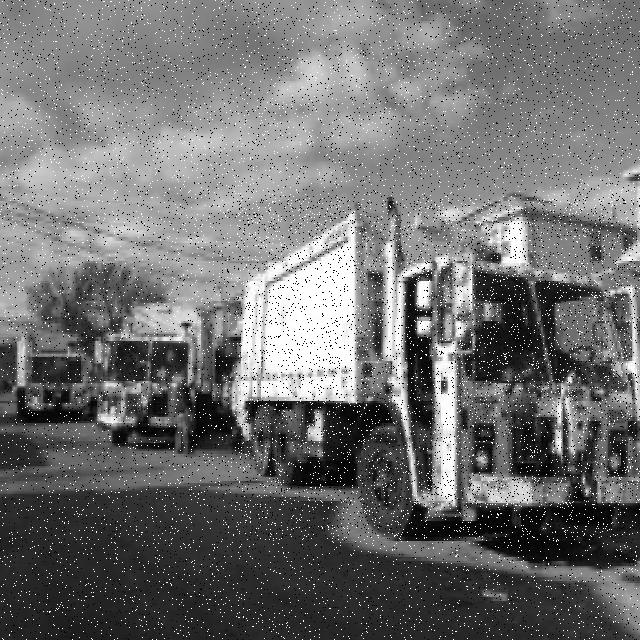Garbage Truck: (236, 199, 640, 540)
